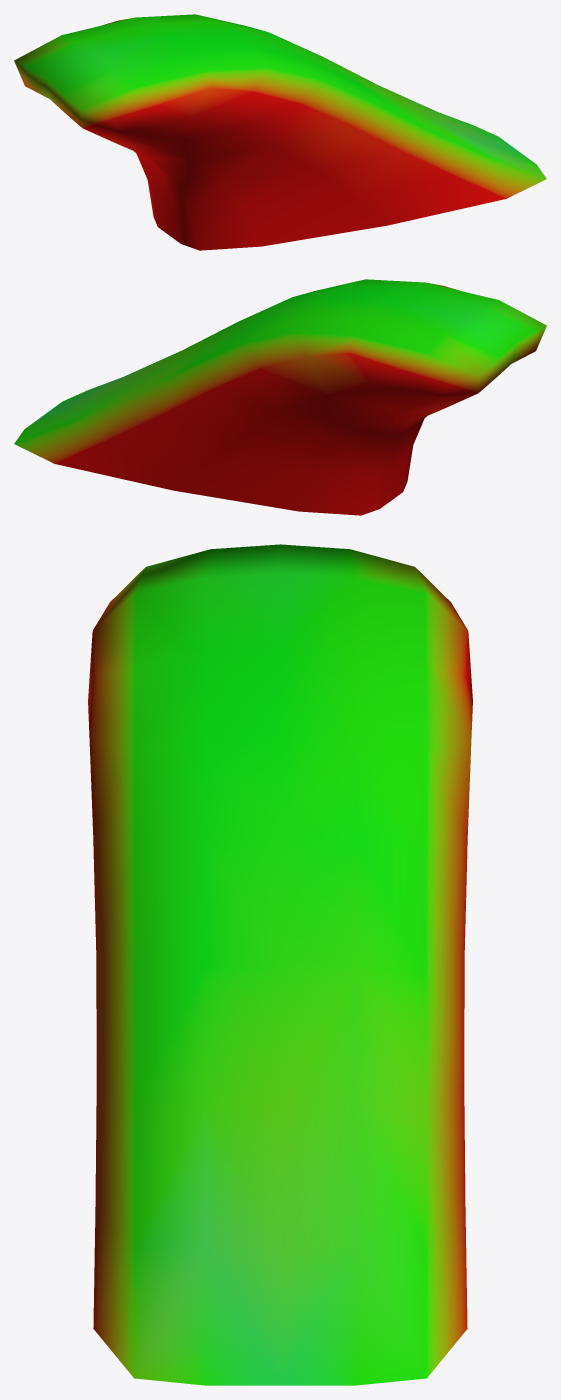
Rendered from PRM Ramp Rock.fbx.
The picture shows the model from 3 angles, top to bottom: view 1: azimuth 30°, elevation 25°; view 2: azimuth 150°, elevation 25°; view 3: azimuth 270°, elevation 25°; orthographic projection. The views are drawn at different scales.
Visible parts, largest first — view 1: Ramp Rock; view 2: Ramp Rock; view 3: Ramp Rock.
Boxes of the visible parts, <box> form: Ramp Rock: <box>14,14,546,250</box>; Ramp Rock: <box>14,279,546,515</box>; Ramp Rock: <box>88,544,472,1385</box>.
Size of the model in its own units: 4103 by 1654 by 1442.
